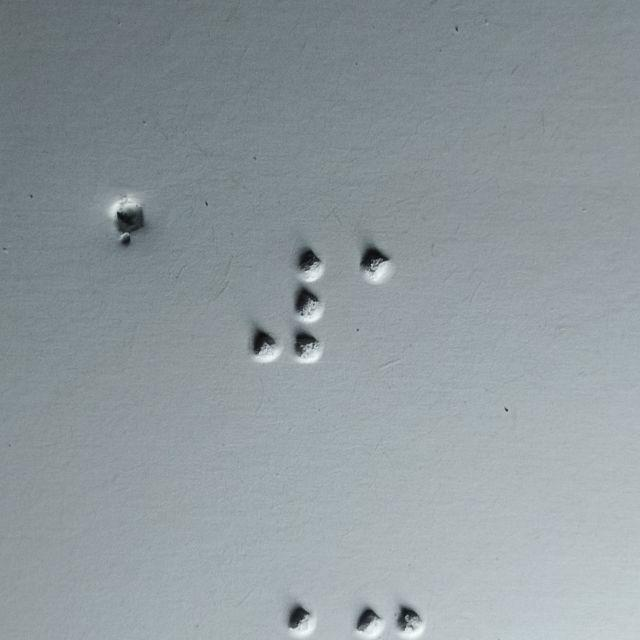1: (358, 247, 432, 364)
number: (252, 246, 325, 363)
